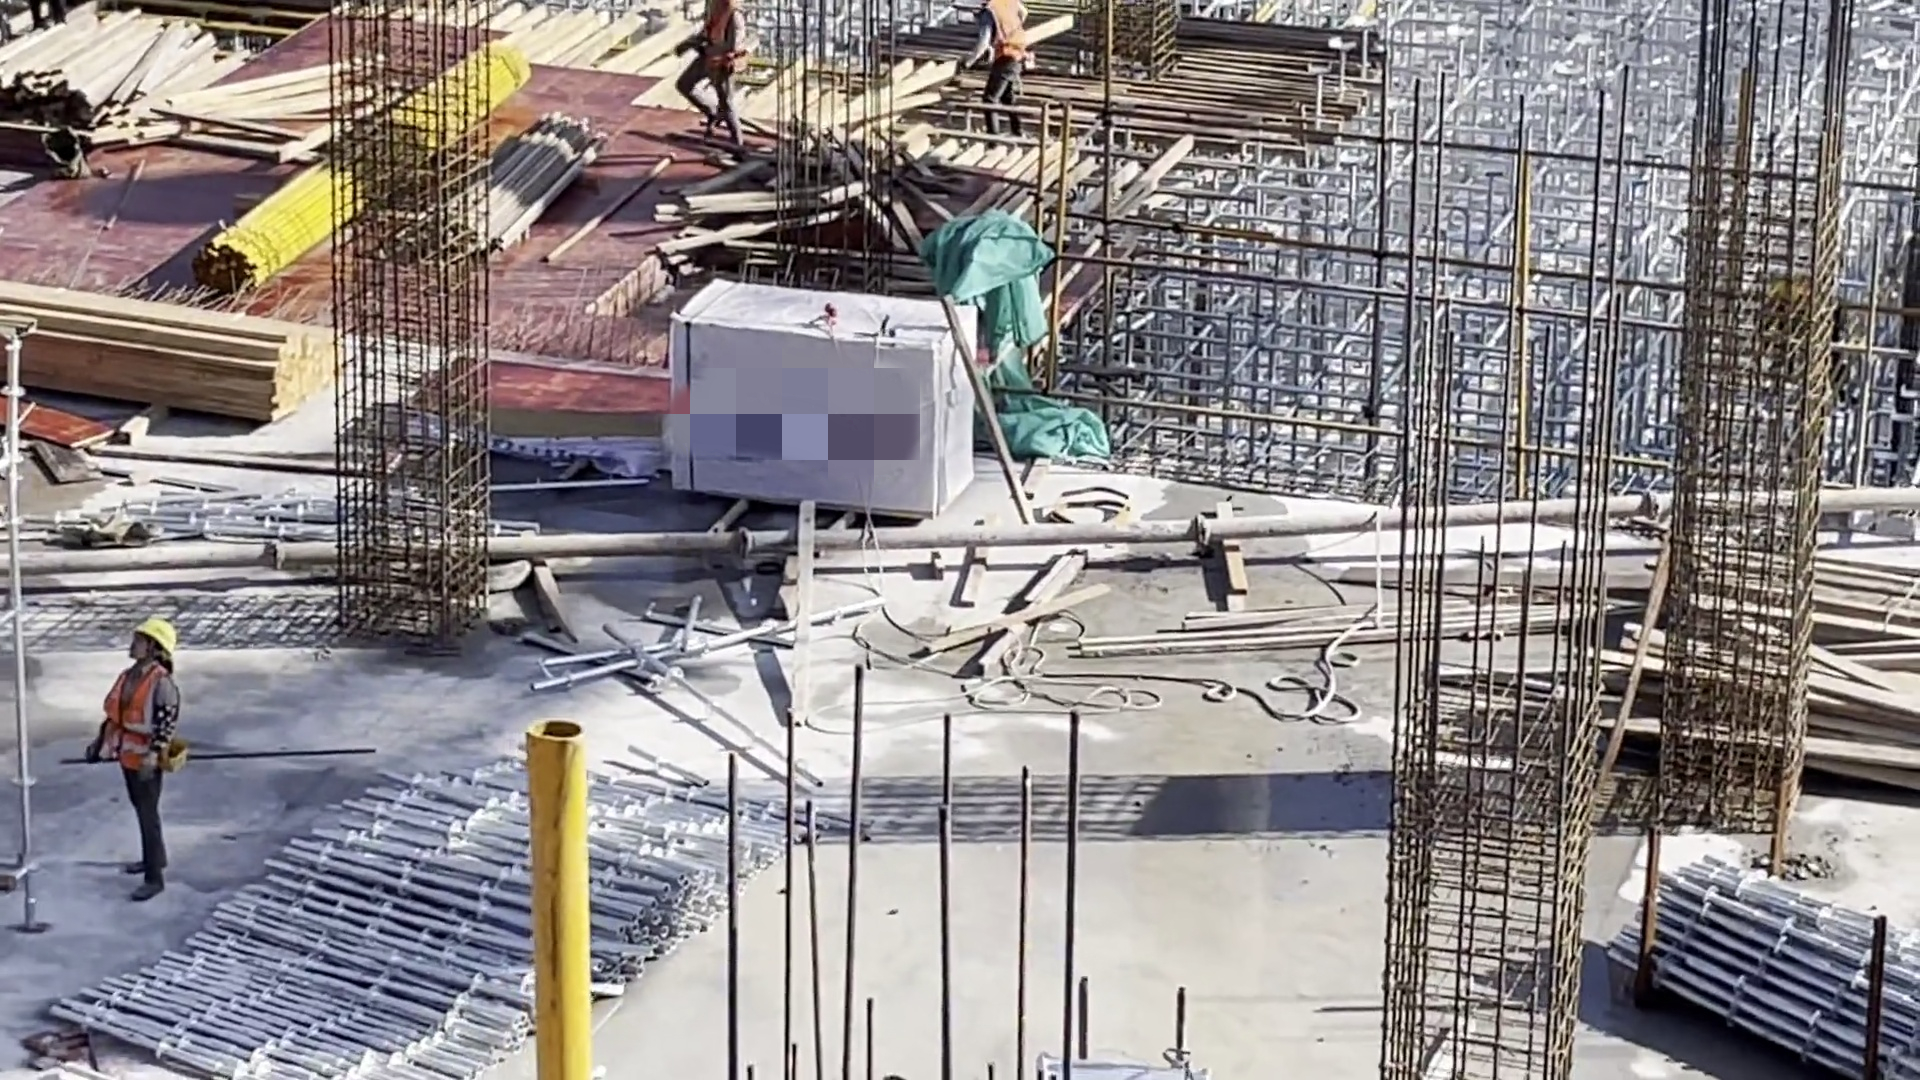helmet: (136, 619, 175, 653)
person: (98, 616, 179, 899), (676, 1, 752, 147), (963, 1, 1032, 133)
scaffold: (1621, 869, 1912, 1080)
vest: (105, 672, 169, 774), (979, 1, 1028, 72), (701, 1, 739, 73)
wood: (1, 283, 335, 422)
